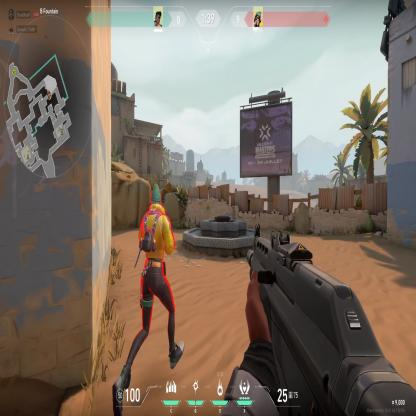enemy: (130, 181, 185, 372)
